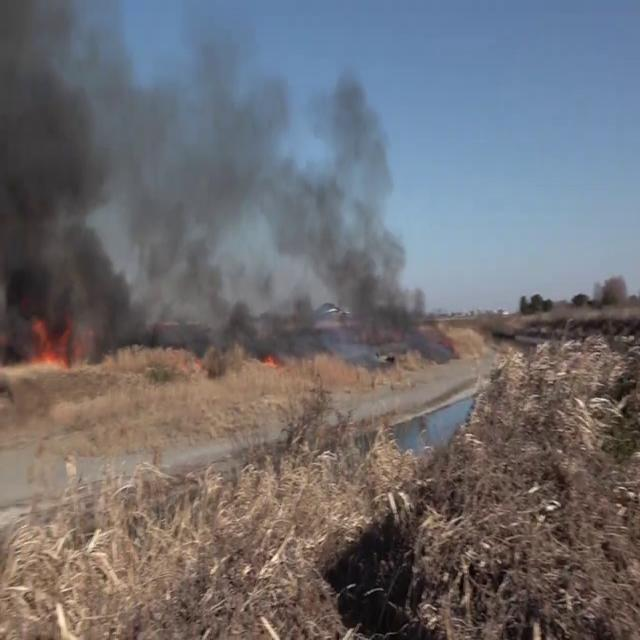Fire: (21, 311, 79, 374)
Smoke: (112, 19, 446, 353), (0, 0, 126, 353)
